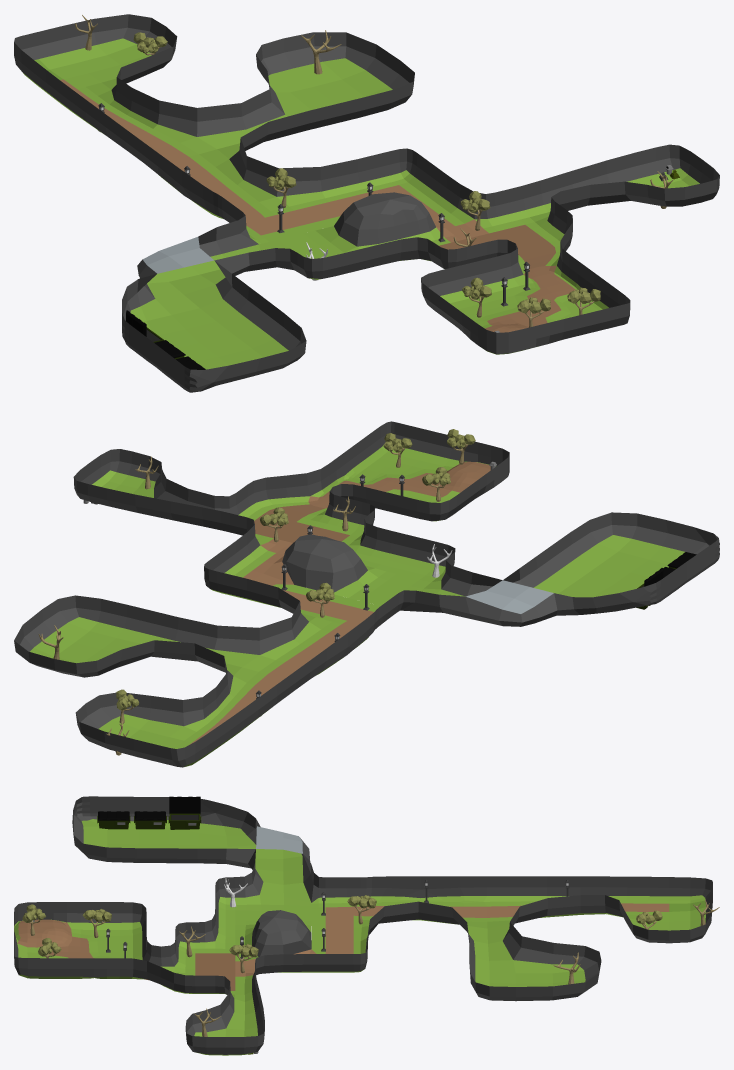
Rendered from map1fix.fbx.
The picture shows the model from 3 angles, top to bottom: view 1: azimuth 30°, elevation 25°; view 2: azimuth 150°, elevation 25°; view 3: azimuth 270°, elevation 25°; orthographic projection. The views are drawn at different scales.
Visible parts, largest first — view 1: Cube; view 2: Cube; view 3: Cube, Cube.014, Cube.013, Cube.015.
Part boxes in pixels (bbox=[...]): Cube: bbox=[14, 14, 719, 392]; Cube: bbox=[14, 421, 719, 767]; Cube: bbox=[14, 796, 712, 1055]; Cube.014: bbox=[168, 796, 201, 829]; Cube.013: bbox=[134, 811, 166, 829]; Cube.015: bbox=[97, 811, 130, 829].
Bounding box in the file's own units: 24932 × 1898 × 30921.
9 materials, 3 textured.
